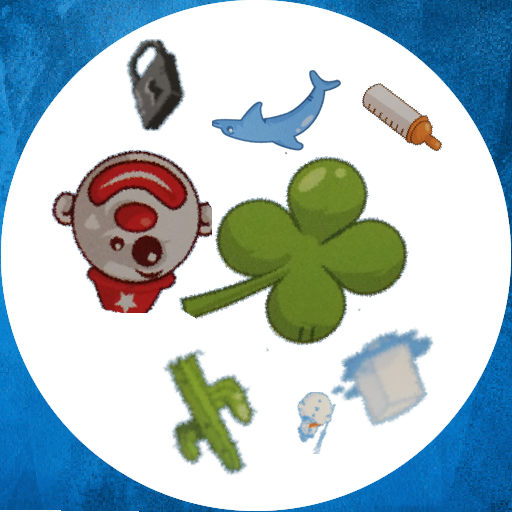bottle_icon: (354, 71, 451, 168)
cactus_icon: (141, 341, 280, 480)
cloverleaf_icon: (176, 124, 409, 357)
clown_icon: (45, 146, 212, 313)
cube_icon: (329, 321, 451, 443)
dolphin_icon: (212, 48, 345, 181)
lock_icon: (107, 39, 199, 131)
snowman_icon: (286, 392, 348, 454)
